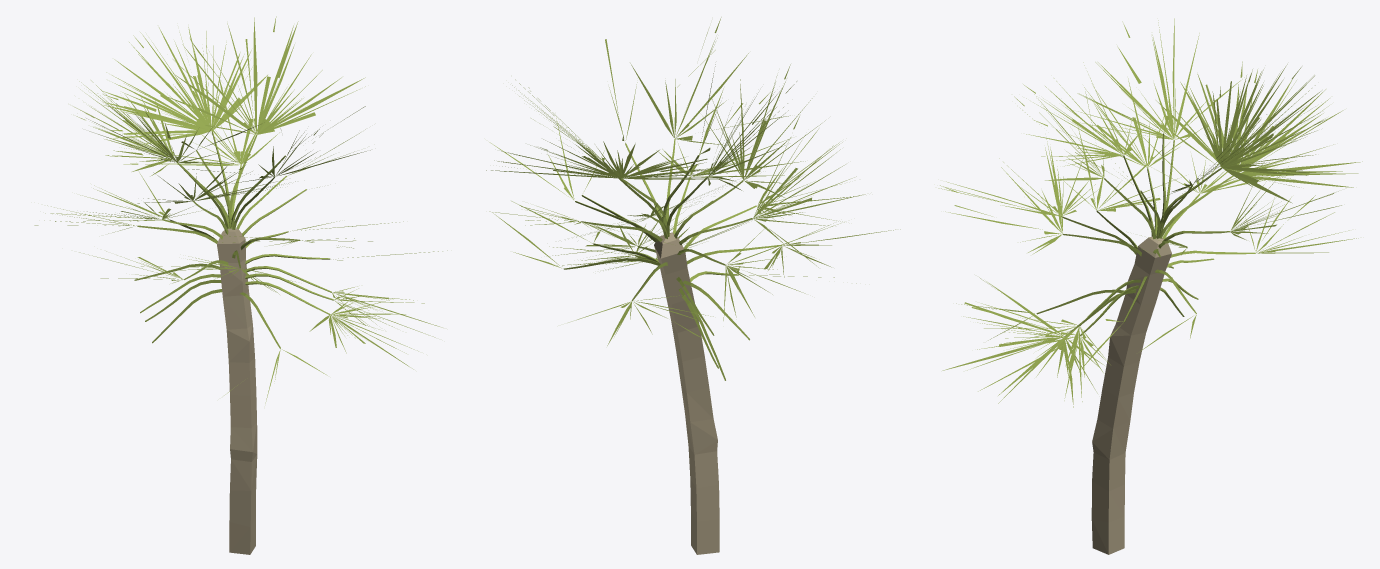
The model's file is tree_fan_palm_tree.glb.
3 renders of one model, left to right at view 1: azimuth 30°, elevation 25°; view 2: azimuth 150°, elevation 25°; view 3: azimuth 270°, elevation 25°, orthographic. The views are drawn at different scales.
Parts seen in each view (by area): view 1: stems_1, trunk; view 2: stems_1, trunk; view 3: stems_1, trunk.
Part boxes in pixels (<box>): stems_1: <box>34,16,447,403</box>; trunk: <box>217,228,257,554</box>; stems_1: <box>486,17,900,380</box>; trunk: <box>654,232,719,554</box>; stems_1: <box>938,18,1362,407</box>; trunk: <box>1091,235,1171,554</box>.
Bounding box in the file's own units: 2.36 × 2.84 × 2.31.
